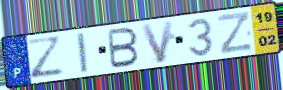3: (184, 17, 215, 58)
B: (107, 26, 141, 70)
I: (74, 31, 90, 75)
V: (139, 18, 176, 65)
Z: (24, 35, 67, 81), (215, 10, 255, 56)
